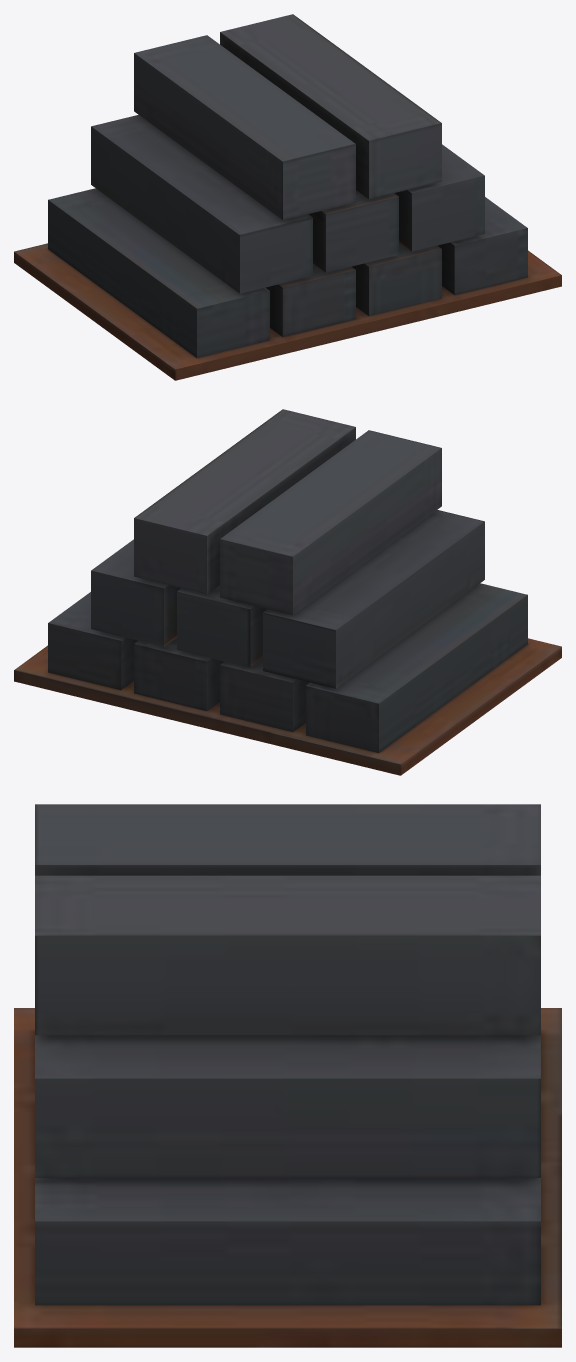
File: lingotes.glb
The picture shows the model from 3 angles, top to bottom: view 1: azimuth 30°, elevation 25°; view 2: azimuth 150°, elevation 25°; view 3: azimuth 270°, elevation 25°; orthographic projection. The views are drawn at different scales.
Visible parts, largest first — view 1: lingotes; view 2: lingotes; view 3: lingotes.
Boxes of the visible parts, box(x1,y1,x2,y2) form: lingotes: box(14, 14, 561, 380); lingotes: box(14, 409, 561, 775); lingotes: box(14, 804, 561, 1347).
Bounding box in the file's own units: 1.8 × 0.83 × 1.3.
Materials: 1 (1 with a texture image).
